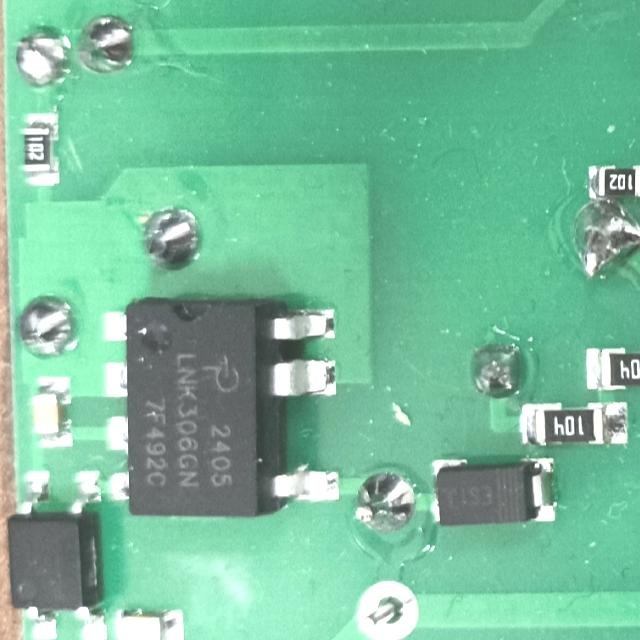chip-capacitor: (31, 375, 74, 449), (114, 609, 186, 640)
chip-resistor: (520, 402, 629, 446), (21, 108, 61, 187), (583, 346, 640, 390), (586, 163, 640, 199)
diode: (430, 455, 557, 526)
ic: (104, 296, 343, 518), (7, 468, 108, 640)
